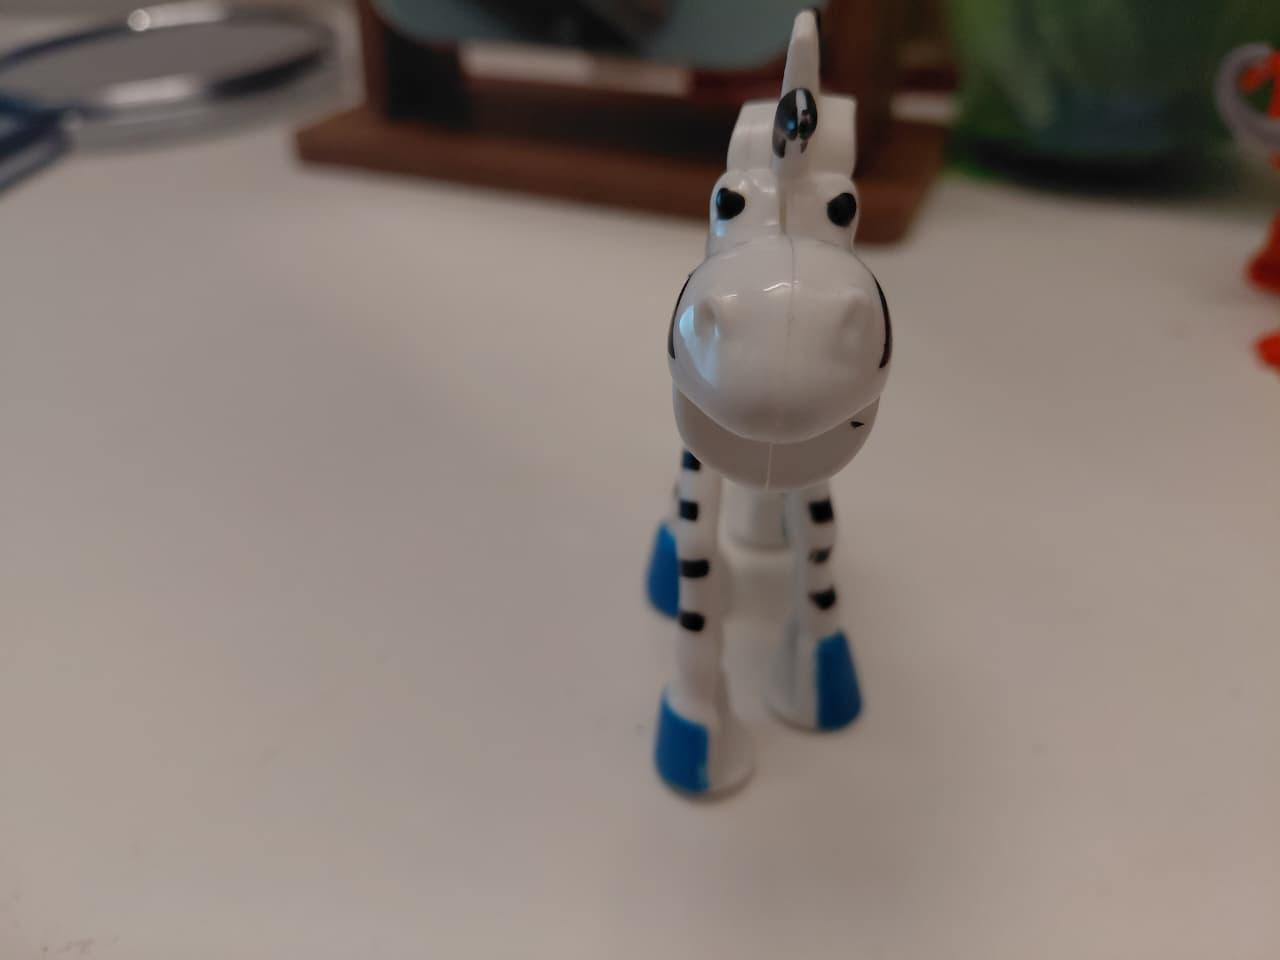zebra: (558, 10, 1041, 845)
